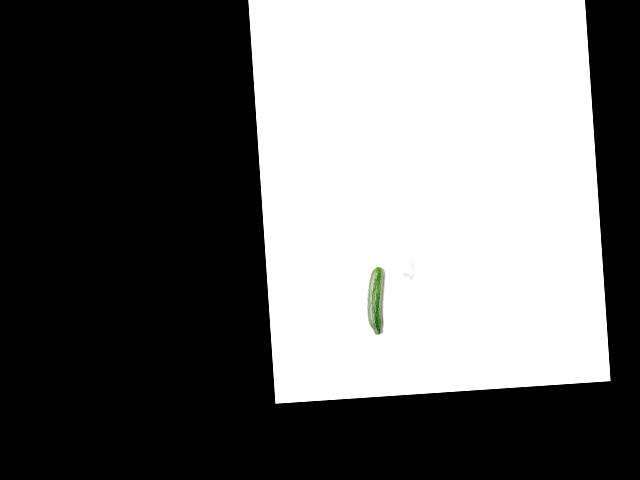cucumber: (365, 266, 388, 335)
